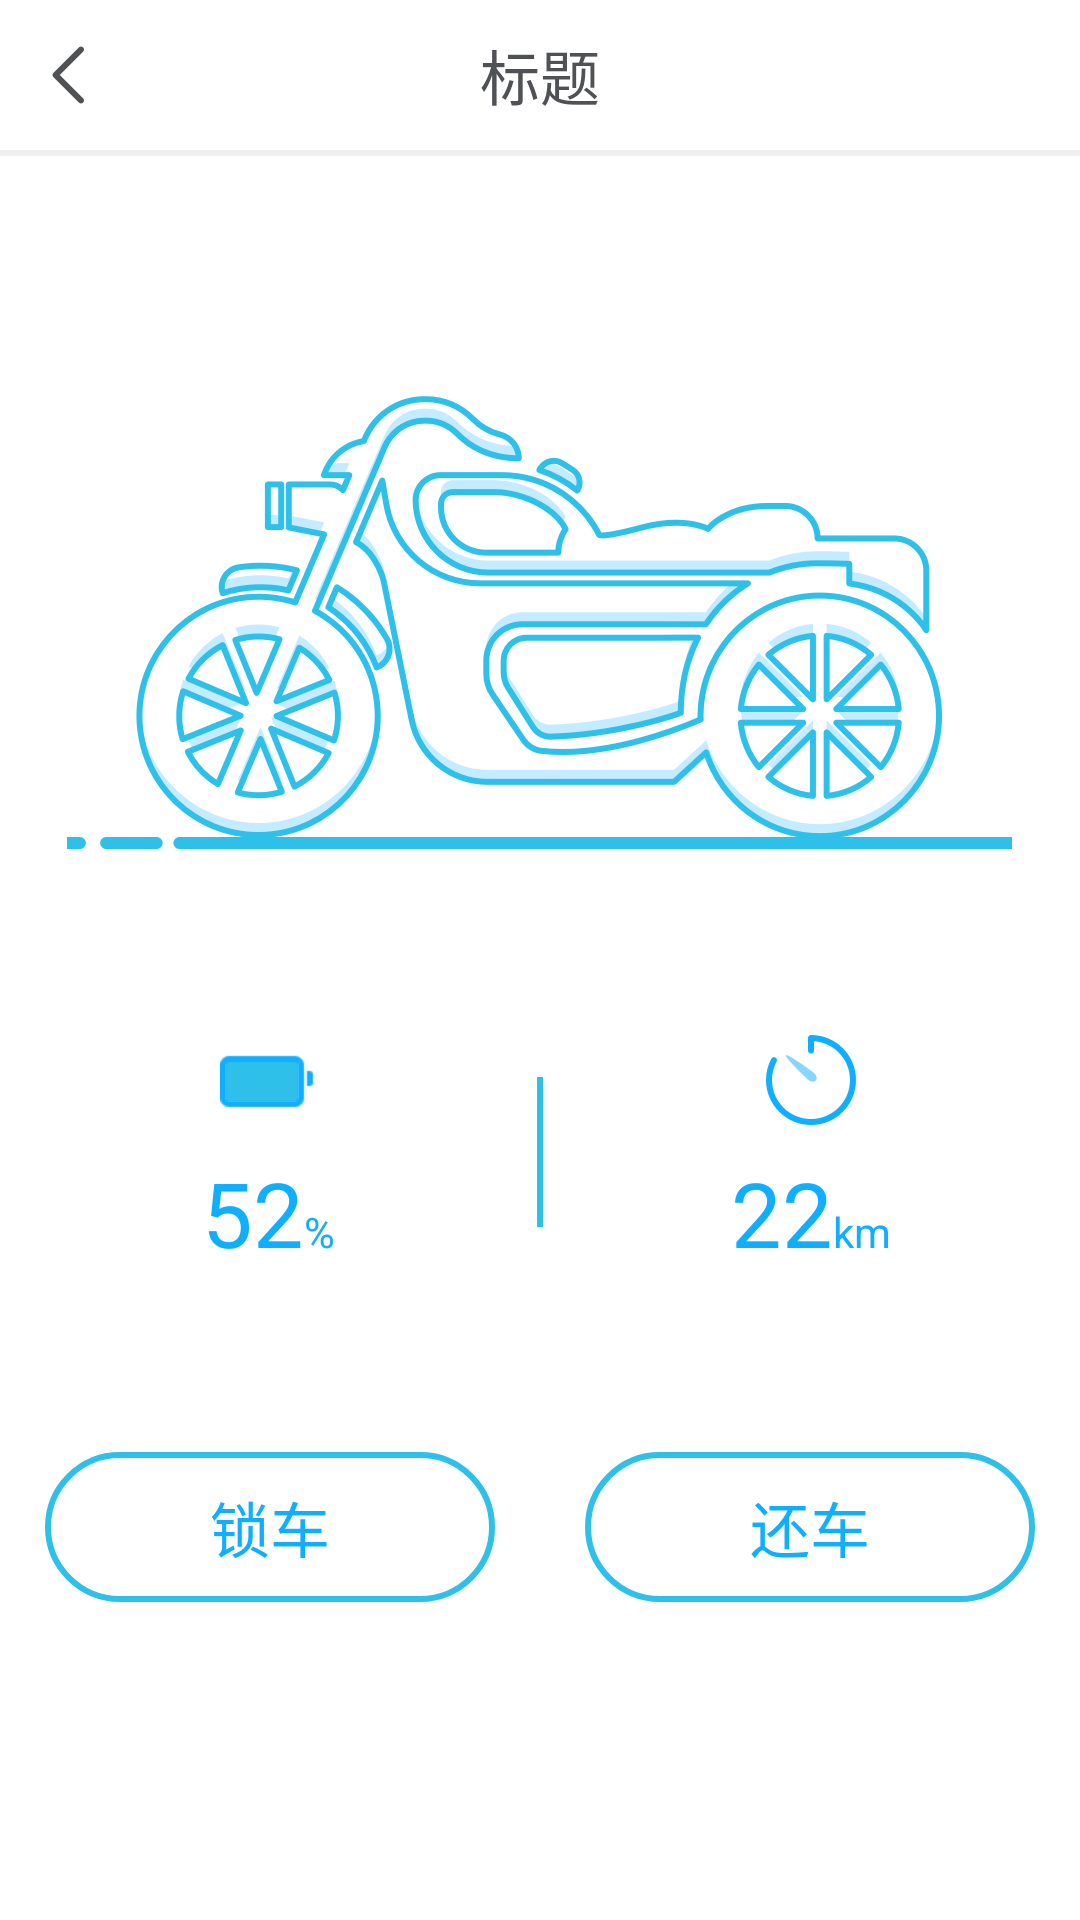

Locate icon controls on the screen. Image size 1080x1920, boxes as BBox(x1, y1, x2, y2).
back: BBox(52, 46, 84, 104)
electricity: BBox(220, 1055, 314, 1108)
